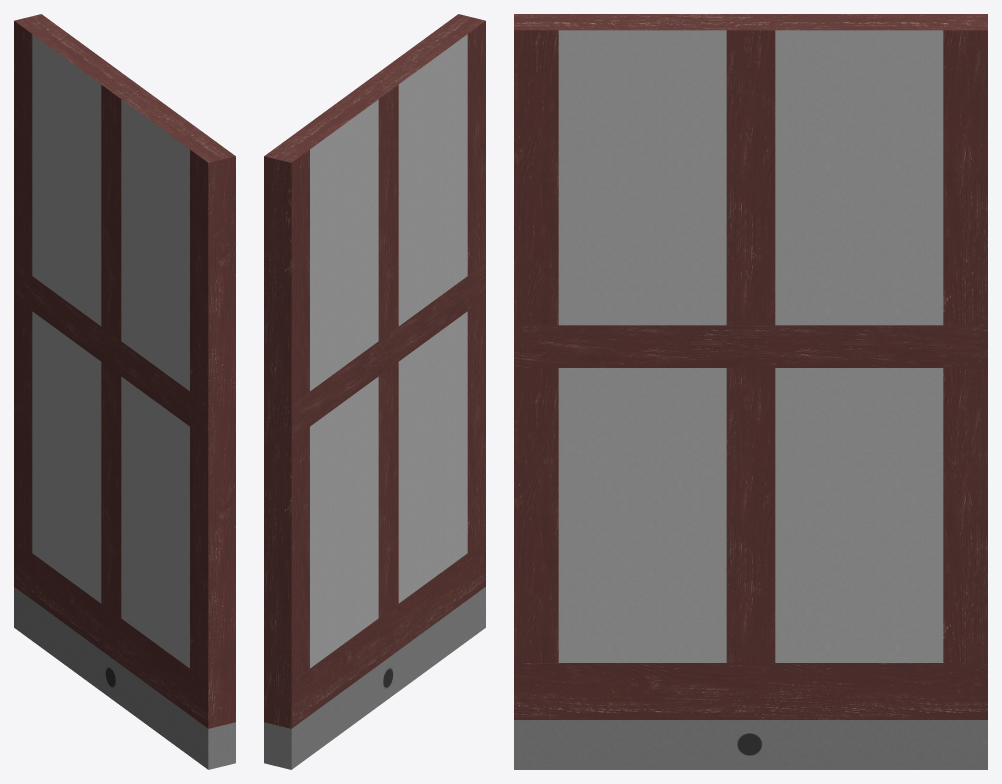
The model's file is SM_Sun_Bul_Wall_A.fbx.
3 views of the same model, side by side, from view 1: azimuth 30°, elevation 25°; view 2: azimuth 150°, elevation 25°; view 3: azimuth 270°, elevation 25° (orthographic). The views are drawn at different scales.
Parts seen in each view (by area): view 1: SM_Sun_Bul_Wall_A; view 2: SM_Sun_Bul_Wall_A; view 3: SM_Sun_Bul_Wall_A.
Part boxes in pixels (x1,y1,x2,y2): SM_Sun_Bul_Wall_A: (14,14,235,769); SM_Sun_Bul_Wall_A: (264,14,485,769); SM_Sun_Bul_Wall_A: (514,14,987,769).
Bounding box in the file's own units: 15 × 317 × 184.
